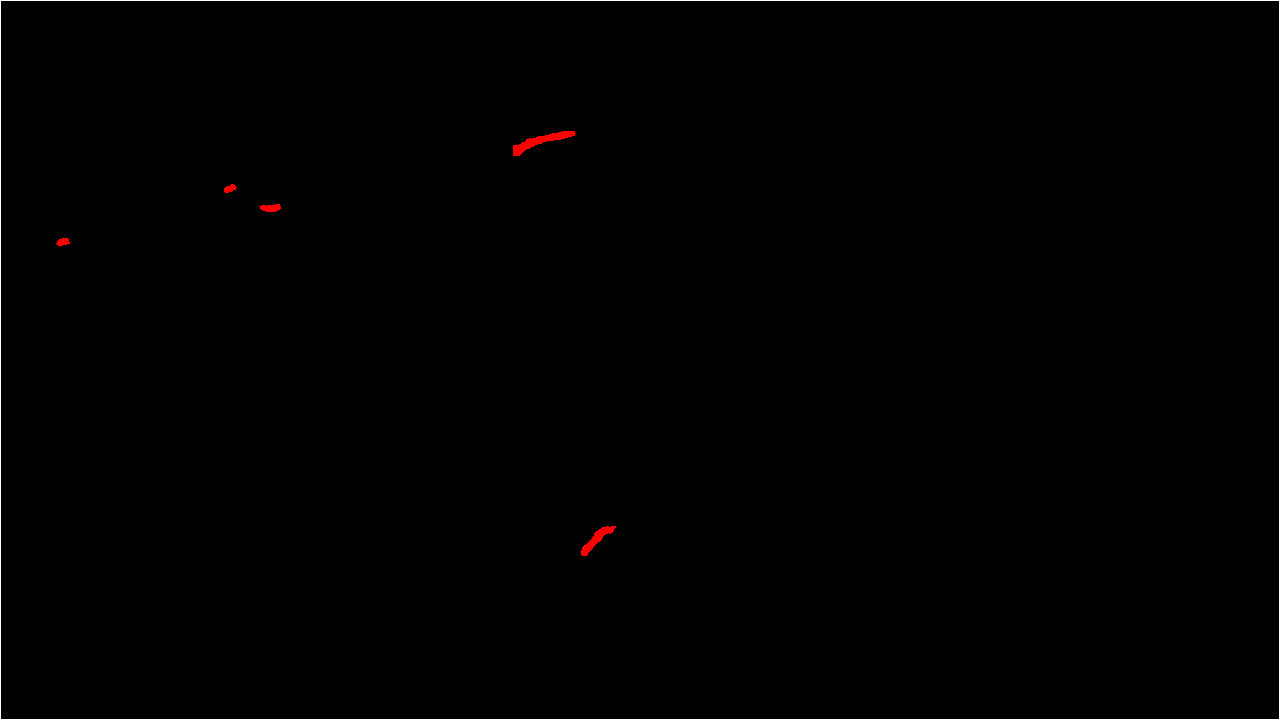drone: (510, 114, 589, 167), (564, 507, 628, 572), (1052, 450, 1129, 491), (45, 234, 73, 256), (213, 175, 242, 194), (252, 201, 282, 215)
